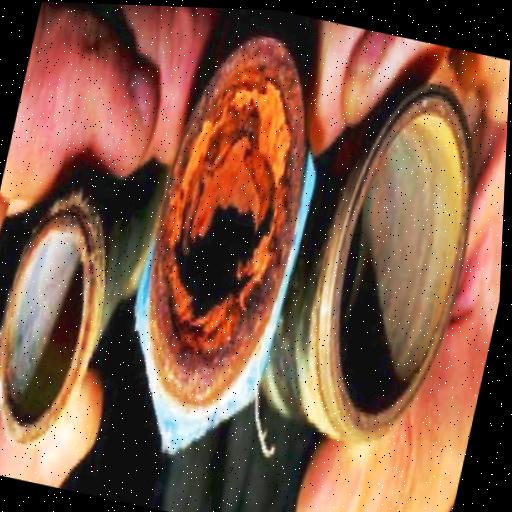corrosion: (114, 17, 345, 422)
